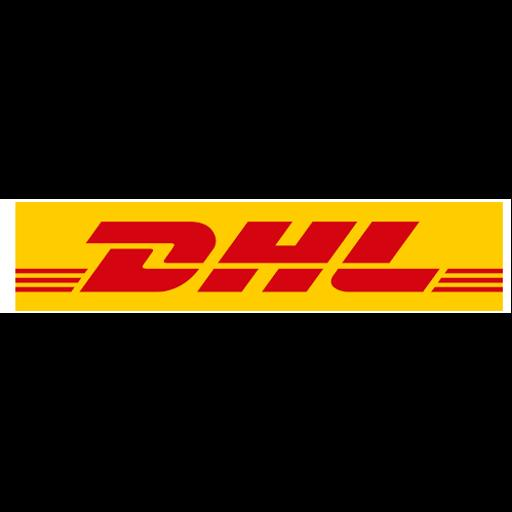DHL: (0, 199, 511, 313)
